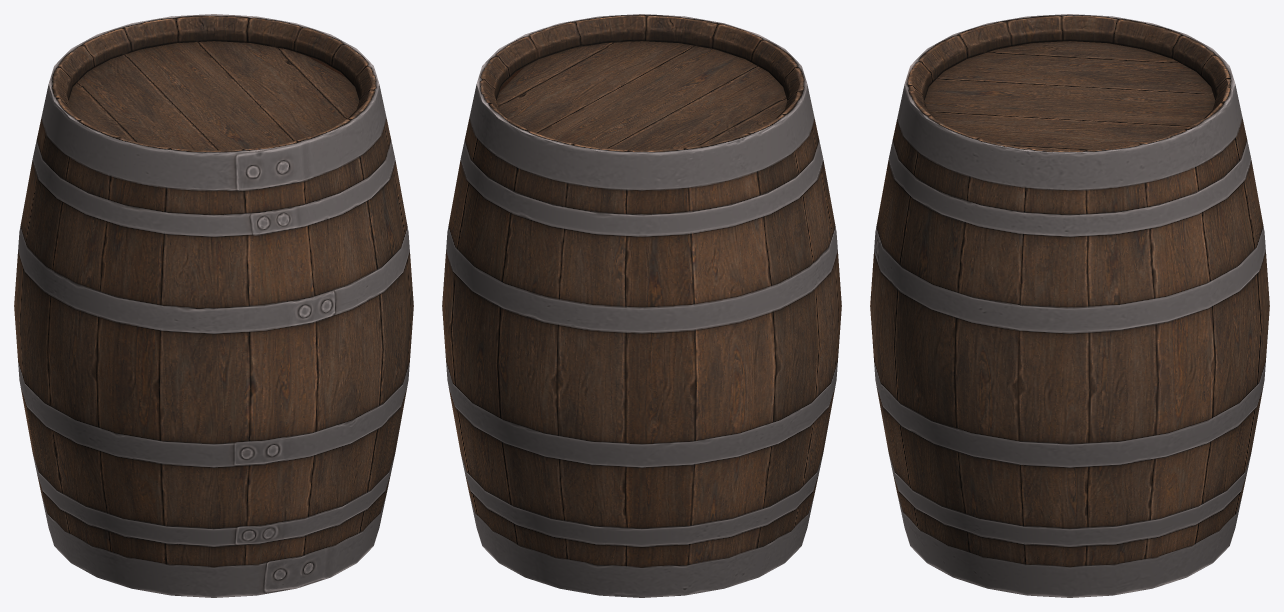
File: wooden_barrel.glb
3 renders of one model, left to right at view 1: azimuth 30°, elevation 25°; view 2: azimuth 150°, elevation 25°; view 3: azimuth 270°, elevation 25°, orthographic.
Visible parts, largest first — view 1: Object_2; view 2: Object_2; view 3: Object_2.
Boxes of the visible parts, <box> form: Object_2: <box>14,14,413,597</box>; Object_2: <box>442,14,841,597</box>; Object_2: <box>870,14,1269,597</box>.
Size of the model in its own units: 0.7458 by 0.9144 by 0.7458.
Materials: 1 (1 with a texture image).
